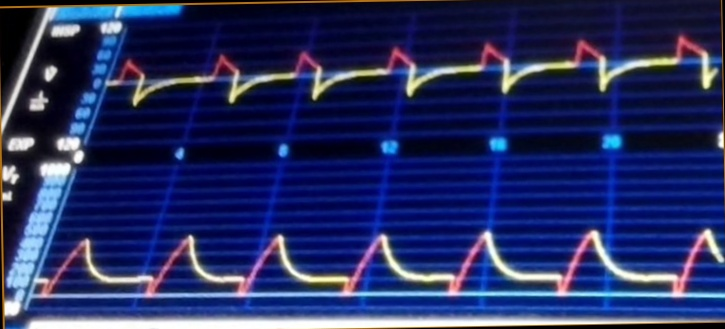Flow: (118, 30, 721, 129)
Leakage Volume: (46, 225, 725, 317)
